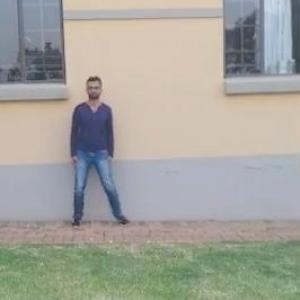follow: (68, 73, 114, 229)
